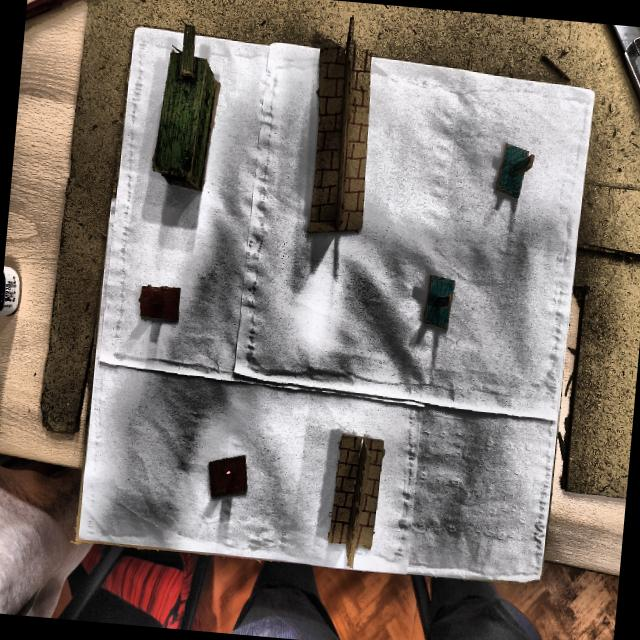Tank: (152, 32, 220, 195)
Wall: (305, 42, 373, 237), (325, 433, 387, 554)
enemy: (203, 452, 263, 501), (135, 281, 187, 329)
friend: (493, 141, 537, 202), (420, 271, 458, 339)
